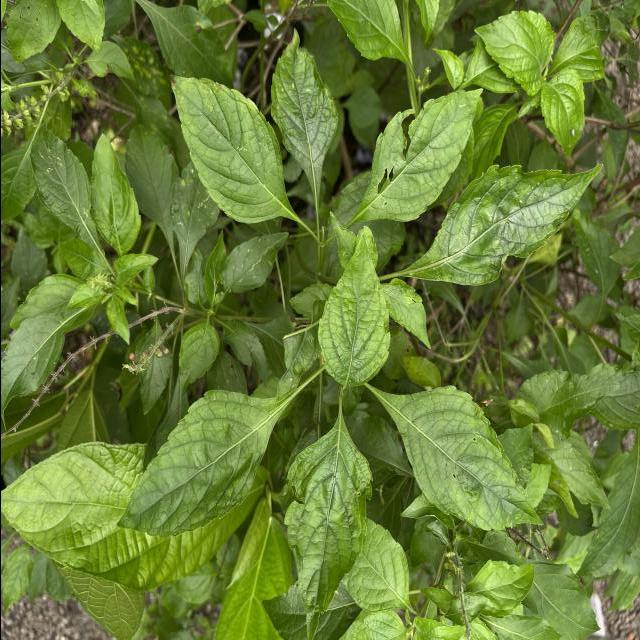Ocimum gratissimum: (112, 386, 301, 540), (396, 161, 608, 293), (368, 384, 548, 536), (278, 407, 378, 640), (164, 68, 300, 227), (350, 86, 486, 225), (266, 20, 342, 212), (312, 231, 393, 392), (26, 110, 104, 264)
